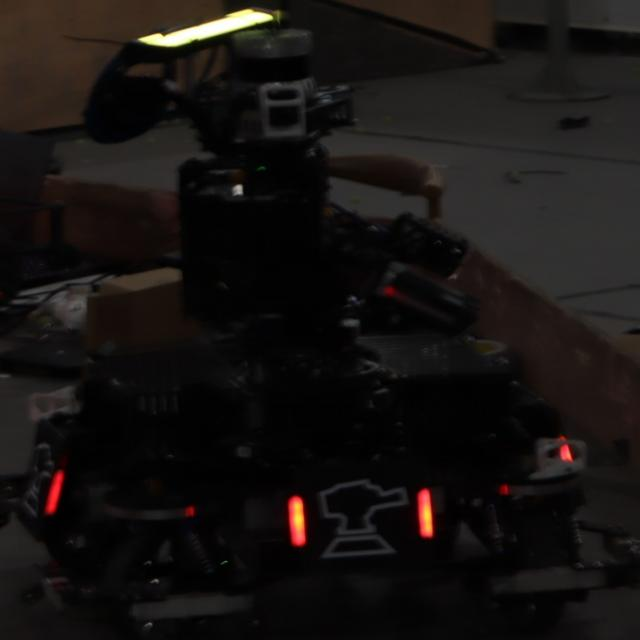Rs: (283, 478, 440, 560), (21, 437, 66, 525)
